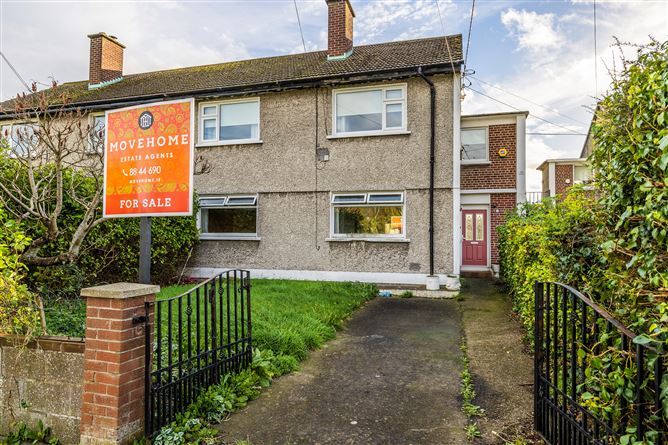property sign: (95, 92, 210, 223)
